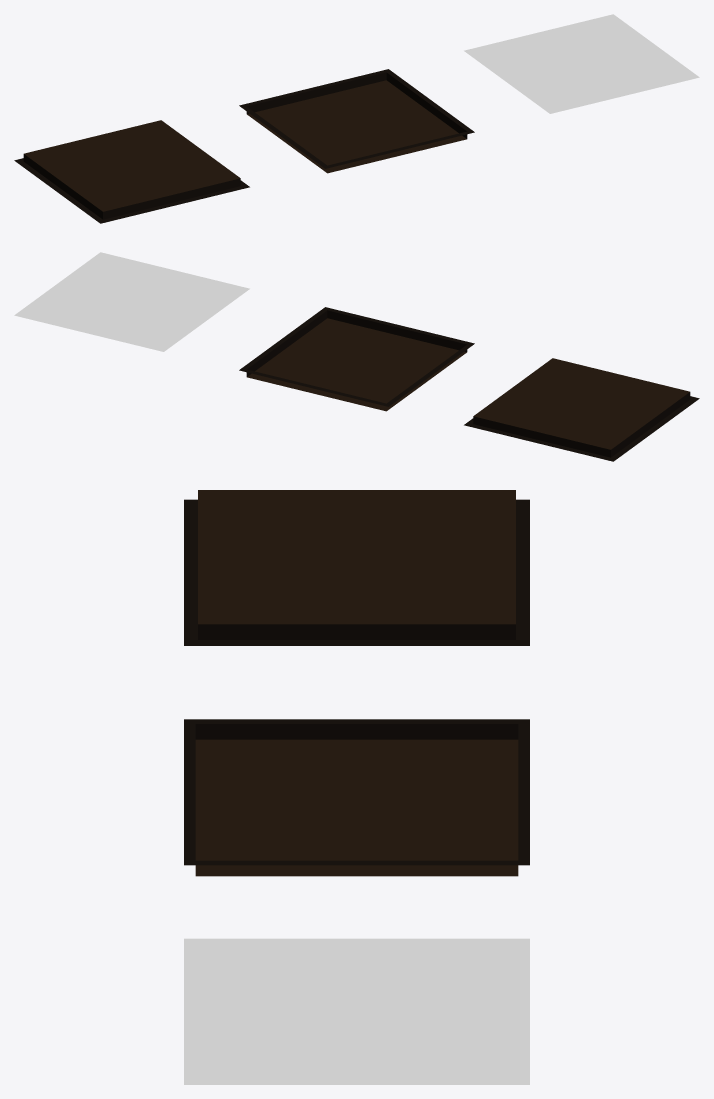
Rendered from Teto.fbx.
3 views of the same model, one above another, from view 1: azimuth 30°, elevation 25°; view 2: azimuth 150°, elevation 25°; view 3: azimuth 270°, elevation 25° (orthographic). The views are drawn at different scales.
Visible parts, largest first — view 1: MD_Teto_02, MD_Teto_03, MD_Teto_01; view 2: MD_Teto_02, MD_Teto_03, MD_Teto_01; view 3: MD_Teto_02, MD_Teto_03, MD_Teto_01.
Part boxes in pixels (<box>): MD_Teto_02: <box>239,69,474,173</box>; MD_Teto_03: <box>14,120,249,223</box>; MD_Teto_01: <box>464,14,699,113</box>; MD_Teto_02: <box>239,307,474,411</box>; MD_Teto_03: <box>464,358,699,461</box>; MD_Teto_01: <box>14,252,249,351</box>; MD_Teto_02: <box>184,719,529,876</box>; MD_Teto_03: <box>184,490,529,645</box>; MD_Teto_01: <box>184,938,529,1084</box>.
Size of the model in its own units: 800 by 20 by 200.
